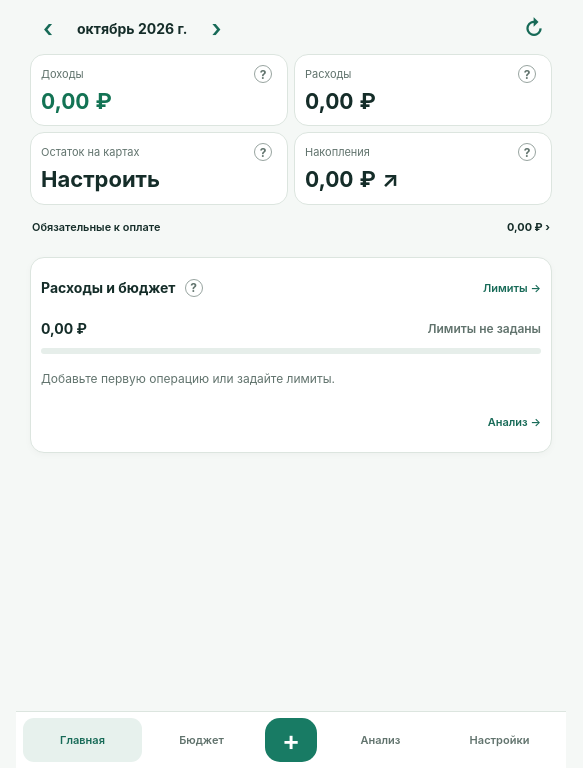
Локальный бюджет › не сохраняет третью цифру после запятой
Click the button named "Добавить операцию" at (291, 740), box [265,718,317,762]
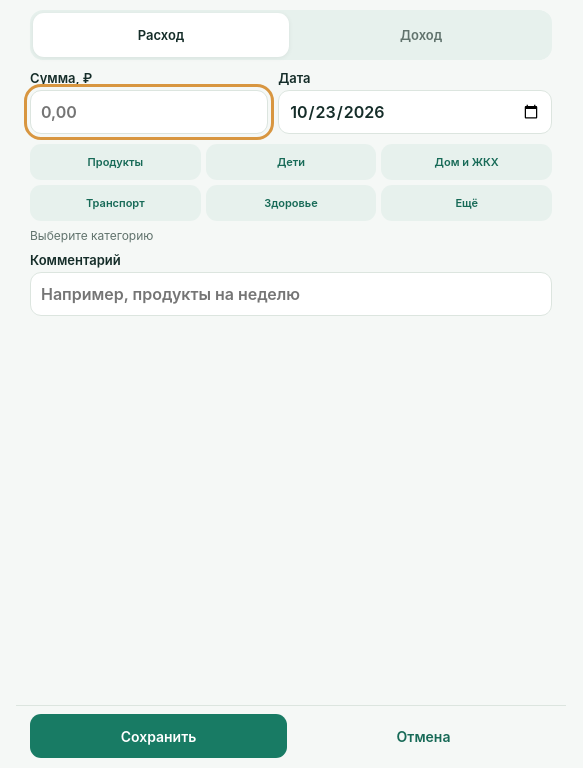
Type "1.001" into the field labelled "Сумма, ₽" at (149, 112), box [30,90,268,134]
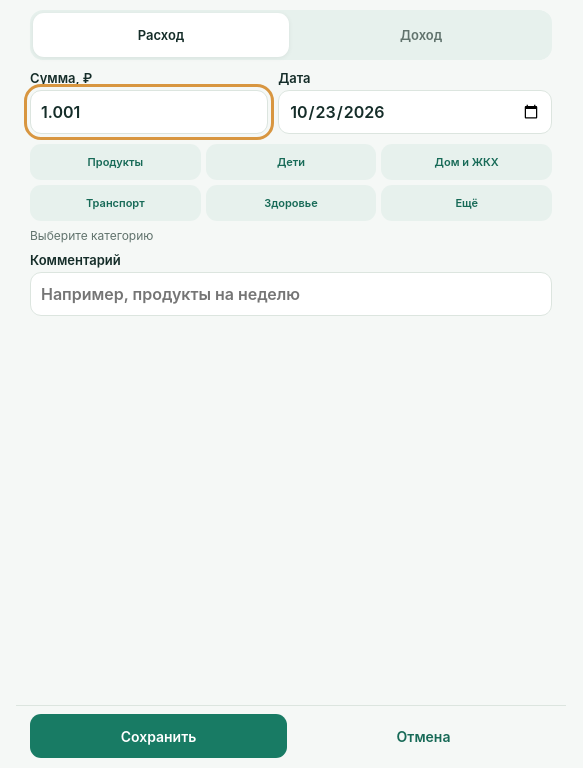
Click the button "Продукты" at (115, 162), box [30,144,201,180]
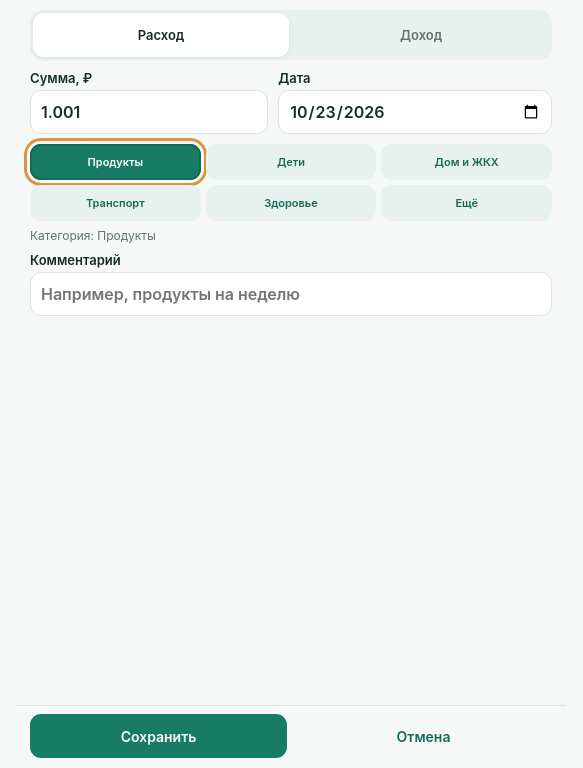
Click the button "Сохранить" at (158, 736), box [30,714,287,758]
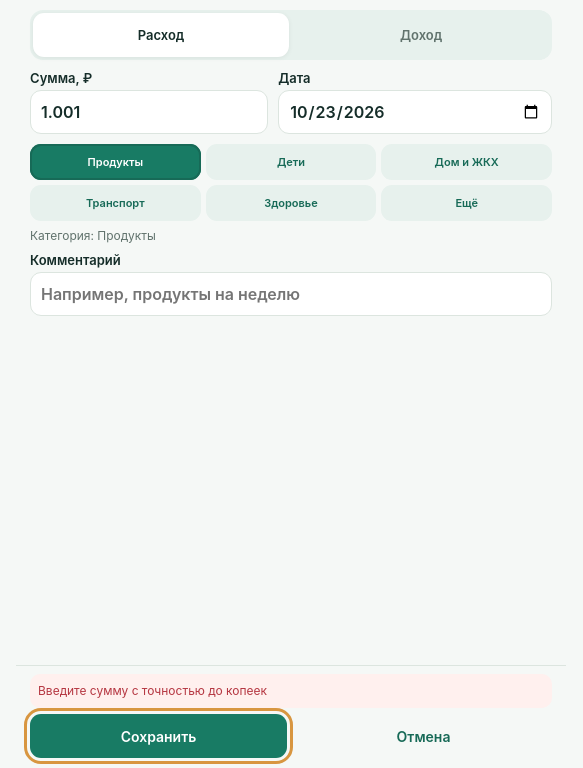
Result: the message reads "Введите сумму с точностью до копеек" at [38,683,267,698]
